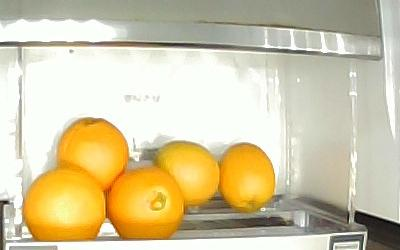orange: (22, 166, 106, 241), (106, 166, 184, 238), (56, 117, 129, 191), (151, 139, 219, 204), (219, 143, 275, 212)
